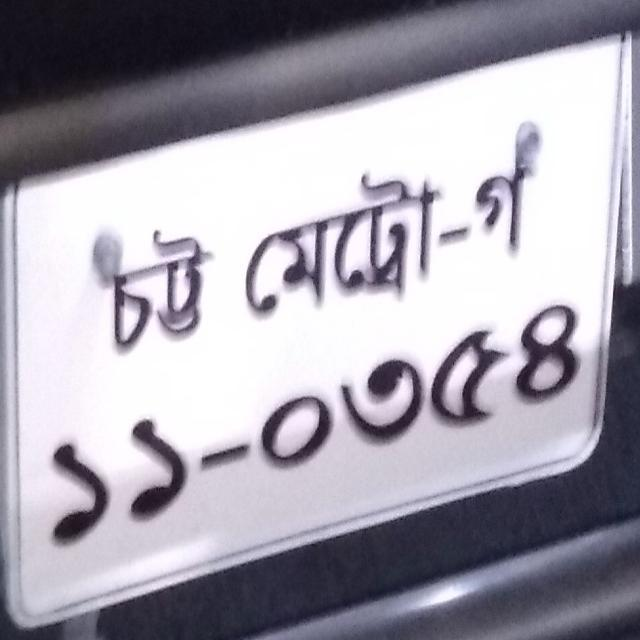numberplate: (2, 18, 637, 630)
